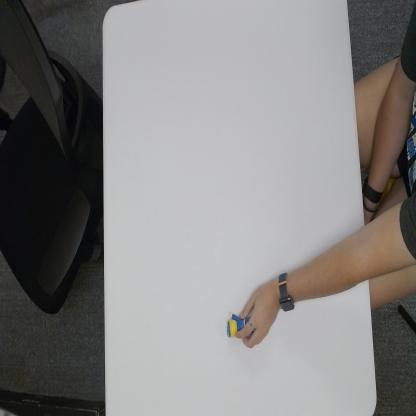Arm: (300, 216, 372, 301)
Hand: (236, 274, 277, 350)
